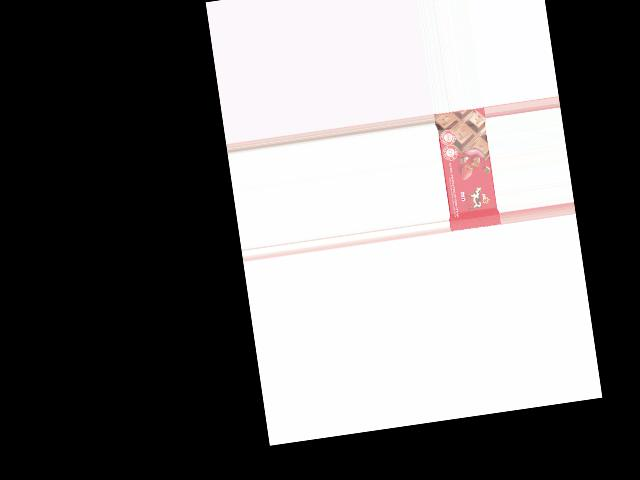chocolate: (433, 108, 500, 232)
